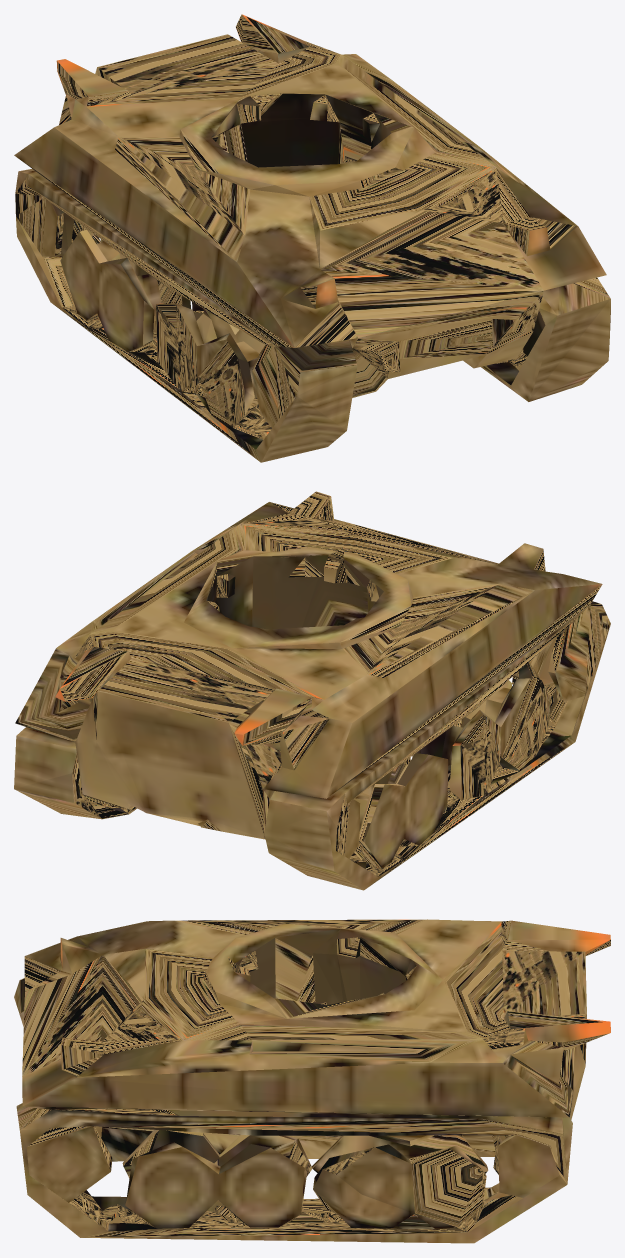
File: hull-s2.glb
3 views of the same model, one above another, from view 1: azimuth 30°, elevation 25°; view 2: azimuth 150°, elevation 25°; view 3: azimuth 270°, elevation 25° (orthographic). The views are drawn at different scales.
Visible parts, largest first — view 1: 9ea61622-a94c-4b6b-8ea4-258bbf757e43_texturing.obj; view 2: 9ea61622-a94c-4b6b-8ea4-258bbf757e43_texturing.obj; view 3: 9ea61622-a94c-4b6b-8ea4-258bbf757e43_texturing.obj.
Part boxes in pixels (box(x1,y1,x2,y2)): 9ea61622-a94c-4b6b-8ea4-258bbf757e43_texturing.obj: box(14, 14, 610, 462); 9ea61622-a94c-4b6b-8ea4-258bbf757e43_texturing.obj: box(14, 491, 610, 890); 9ea61622-a94c-4b6b-8ea4-258bbf757e43_texturing.obj: box(14, 919, 610, 1243).
Bounding box in the file's own units: 1.2 × 0.7665 × 1.97.
Materials: 1 (1 with a texture image).
